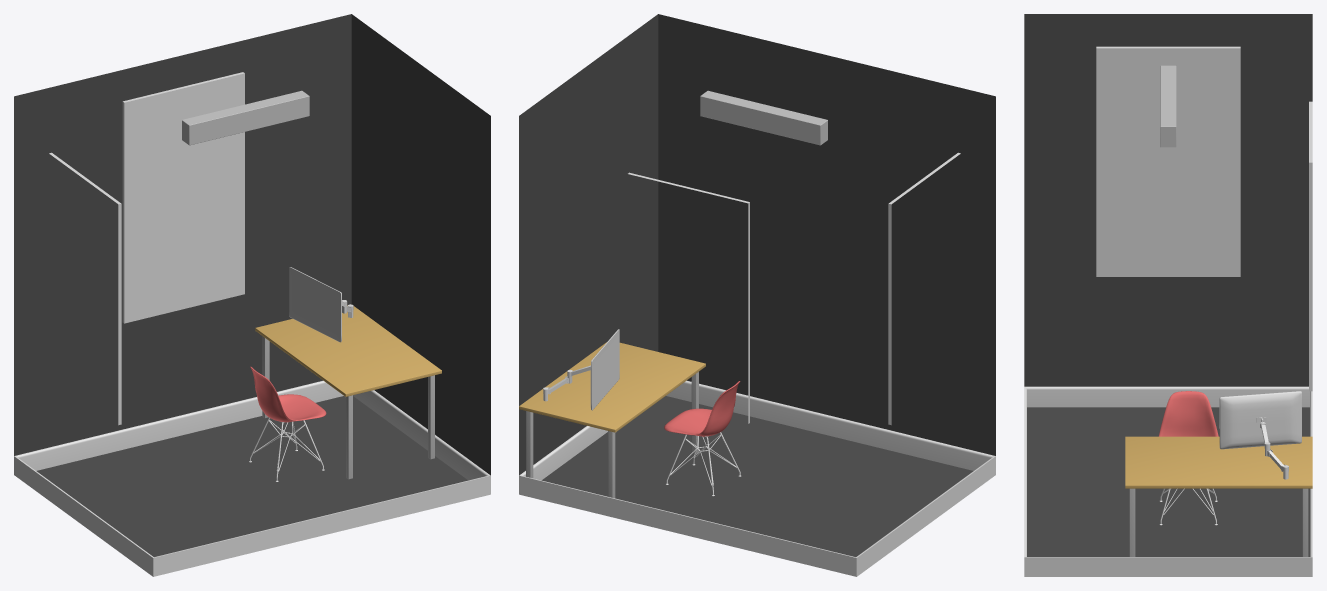
File: PhoneBoothA.gltf
3 views of the same model, side by side, from view 1: azimuth 30°, elevation 25°; view 2: azimuth 150°, elevation 25°; view 3: azimuth 270°, elevation 25° (orthographic). The views are drawn at different scales.
Visible parts, largest first — view 1: 1mPlane (2), 1mPlane (5), 1mPlane, AcousticPanel, OnePersonDesk, SkirtingBoard (1), SkirtingBoard, StripLight, SkirtingBoard (2), ChromeBaseAttached, GoogleChairCombined, SkirtingBoard (3) (+1 smaller); view 2: 1mPlane (3), 1mPlane (5), 1mPlane, OnePersonDesk, SkirtingBoard, SkirtingBoard (1), StripLight, SkirtingBoard (2), GoogleChairCombined, ChromeBaseAttached, SkirtingBoard (3), AcousticPanel (1) (+1 smaller); view 3: 1mPlane (4), AcousticPanel (1), 1mPlane, OnePersonDesk, SkirtingBoard (3), ChromeBaseAttached, SkirtingBoard (2), GoogleChairCombined, StripLight, AcousticPanel, SkirtingBoard (1).
Part boxes in pixels (box(x1,y1,x2,y2)): 1mPlane (2): box(14, 14, 351, 455); 1mPlane (5): box(351, 14, 490, 475); 1mPlane: box(36, 396, 468, 556); AcousticPanel: box(122, 72, 244, 323); OnePersonDesk: box(255, 305, 441, 479); SkirtingBoard (1): box(152, 475, 490, 576); SkirtingBoard: box(14, 380, 343, 475); StripLight: box(182, 90, 309, 145); SkirtingBoard (2): box(14, 456, 154, 576); ChromeBaseAttached: box(289, 267, 353, 342); GoogleChairCombined: box(249, 366, 326, 481); SkirtingBoard (3): box(353, 390, 490, 480); 1mPlane (3): box(658, 14, 995, 455); 1mPlane (5): box(519, 14, 658, 475); 1mPlane: box(541, 396, 973, 556); OnePersonDesk: box(519, 342, 705, 498); SkirtingBoard: box(519, 475, 857, 576); SkirtingBoard (1): box(666, 380, 995, 475); StripLight: box(700, 90, 827, 145); SkirtingBoard (2): box(856, 456, 995, 575); GoogleChairCombined: box(664, 381, 741, 496); ChromeBaseAttached: box(543, 329, 619, 410); SkirtingBoard (3): box(519, 426, 607, 480); AcousticPanel (1): box(888, 152, 960, 425); 1mPlane (4): box(1024, 14, 1312, 386); AcousticPanel (1): box(1096, 46, 1240, 276); 1mPlane: box(1027, 407, 1309, 556); OnePersonDesk: box(1125, 436, 1312, 556); SkirtingBoard (3): box(1025, 557, 1312, 576); ChromeBaseAttached: box(1219, 391, 1301, 479); SkirtingBoard (2): box(1025, 386, 1309, 407); GoogleChairCombined: box(1158, 391, 1218, 525); StripLight: box(1160, 65, 1176, 147); AcousticPanel: box(1309, 101, 1312, 391); SkirtingBoard (1): box(1024, 387, 1026, 576).
Bounding box in the file's own units: 280 × 300 × 200.
